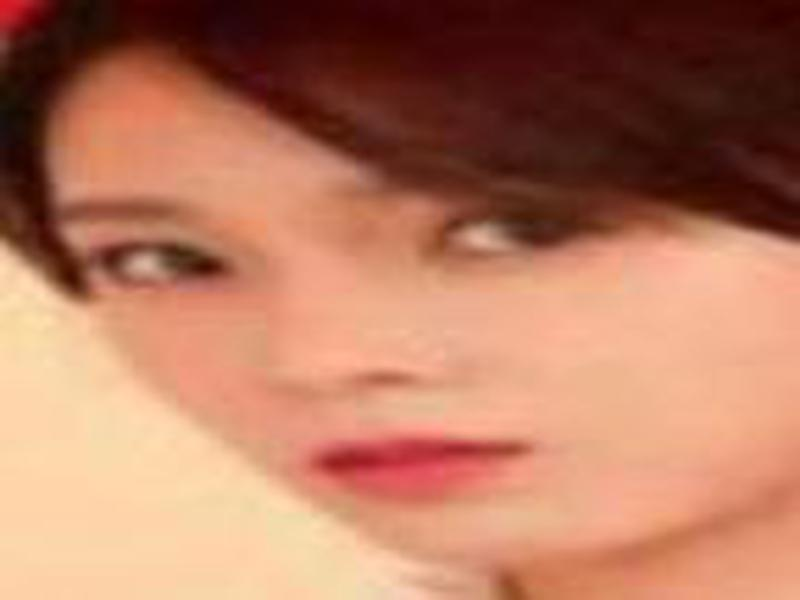without_mask: (63, 46, 778, 561)
